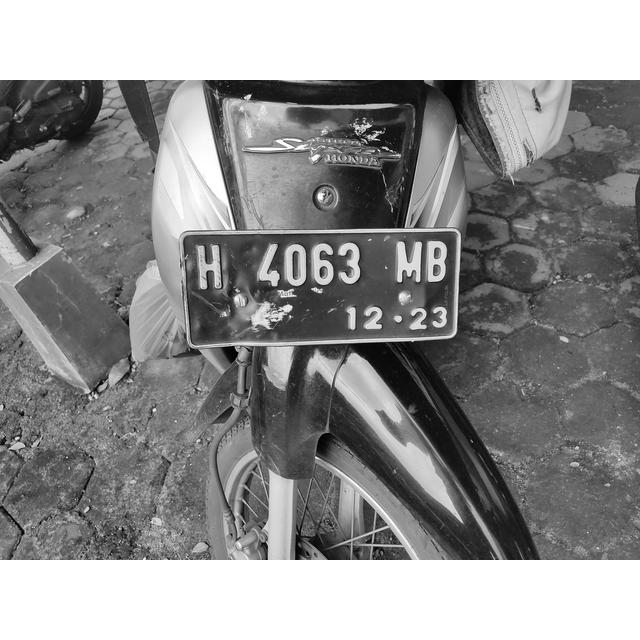license: (196, 236, 453, 333)
